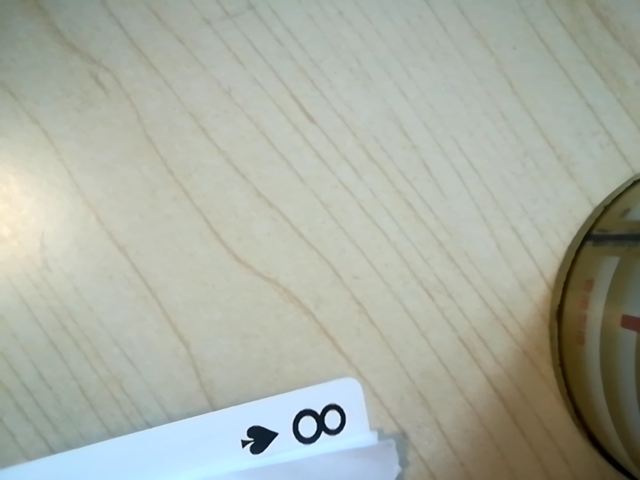ht 8: (236, 395, 370, 465)
